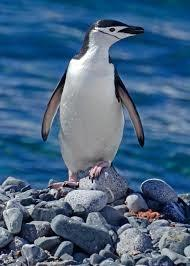chinstrap: (41, 5, 157, 193)
